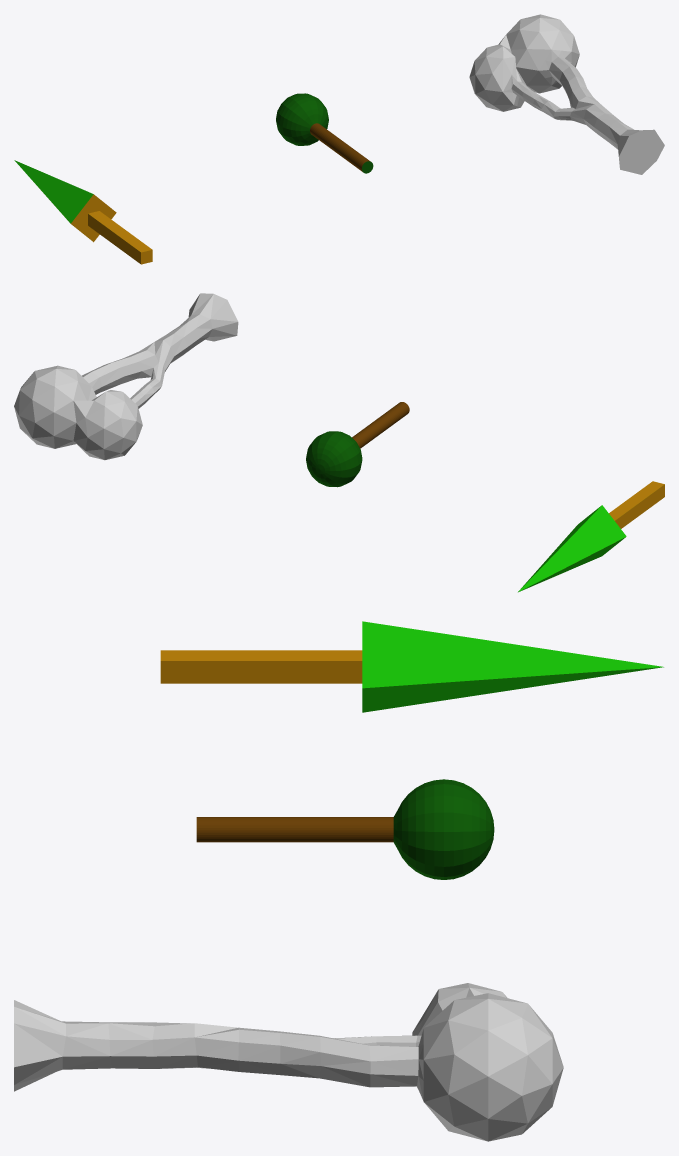
The model's file is land-set-1b.dae.
3 views of the same model, one above another, from view 1: azimuth 30°, elevation 25°; view 2: azimuth 150°, elevation 25°; view 3: azimuth 270°, elevation 25° (orthographic). The views are drawn at different scales.
Parts seen in each view (by area): view 1: tree-3, tree-2, tree-1; view 2: tree-3, tree-2, tree-1; view 3: tree-3, tree-2, tree-1.
Part boxes in pixels (box(x1,y1,x2,y2)): tree-3: box(469, 14, 664, 174); tree-2: box(14, 160, 152, 264); tree-1: box(276, 93, 373, 173); tree-3: box(14, 293, 238, 460); tree-2: box(518, 481, 664, 592); tree-1: box(306, 402, 409, 487); tree-3: box(14, 983, 563, 1141); tree-2: box(160, 621, 663, 712); tree-1: box(196, 779, 494, 879).
Bounding box in the file's own units: 11.63 × 6.45 × 1.73.
